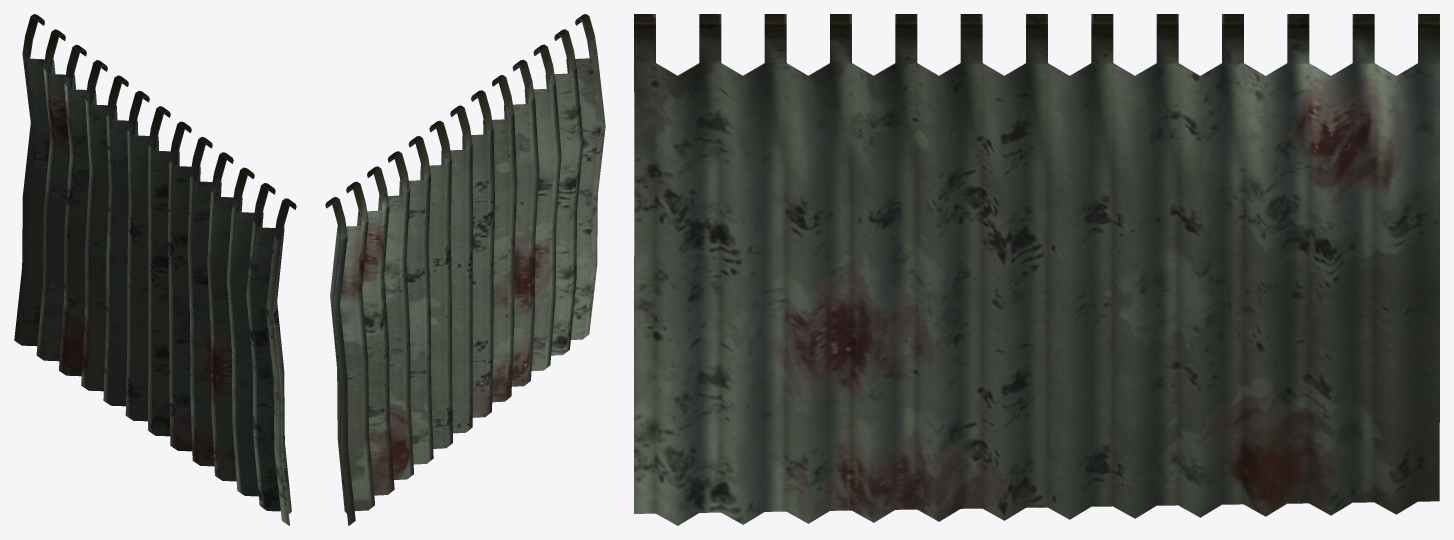
File: 욕실 커튼 애니메이션.FBX
3 views of the same model, side by side, from view 1: azimuth 30°, elevation 25°; view 2: azimuth 150°, elevation 25°; view 3: azimuth 270°, elevation 25° (orthographic). The views are drawn at different scales.
Visible parts, largest first — view 1: 2층 욕실 - 커튼; view 2: 2층 욕실 - 커튼; view 3: 2층 욕실 - 커튼.
Boxes of the visible parts, box(x1,y1,x2,y2) form: 2층 욕실 - 커튼: box(14, 14, 296, 525); 2층 욕실 - 커튼: box(325, 14, 605, 525); 2층 욕실 - 커튼: box(634, 14, 1439, 525).
Bounding box in the file's own units: 0.7483 × 6.93 × 10.09.
1 material, 1 textured.
